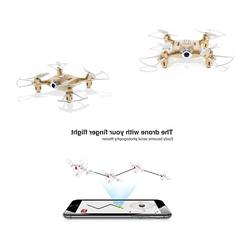drone: (16, 60, 113, 110), (138, 27, 236, 72)
